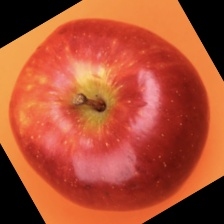apple: (31, 37, 208, 177)
